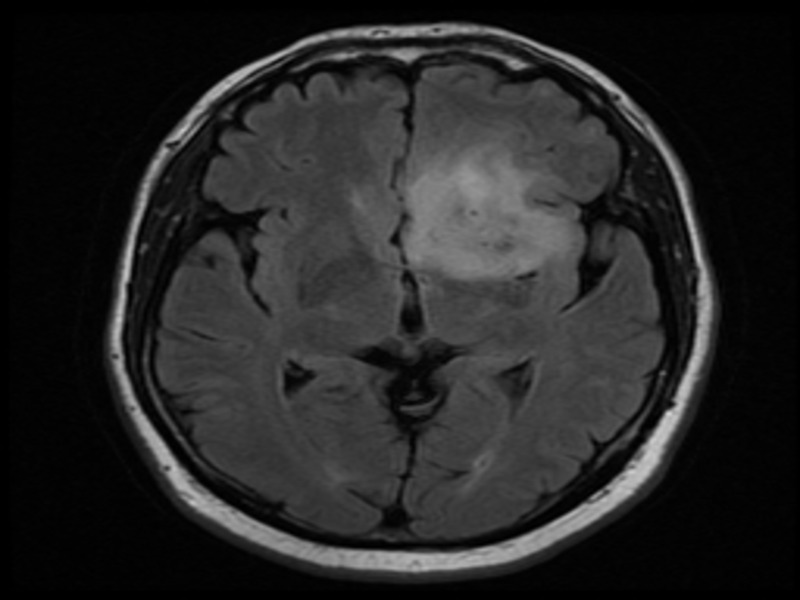tumor: (386, 139, 592, 283)
